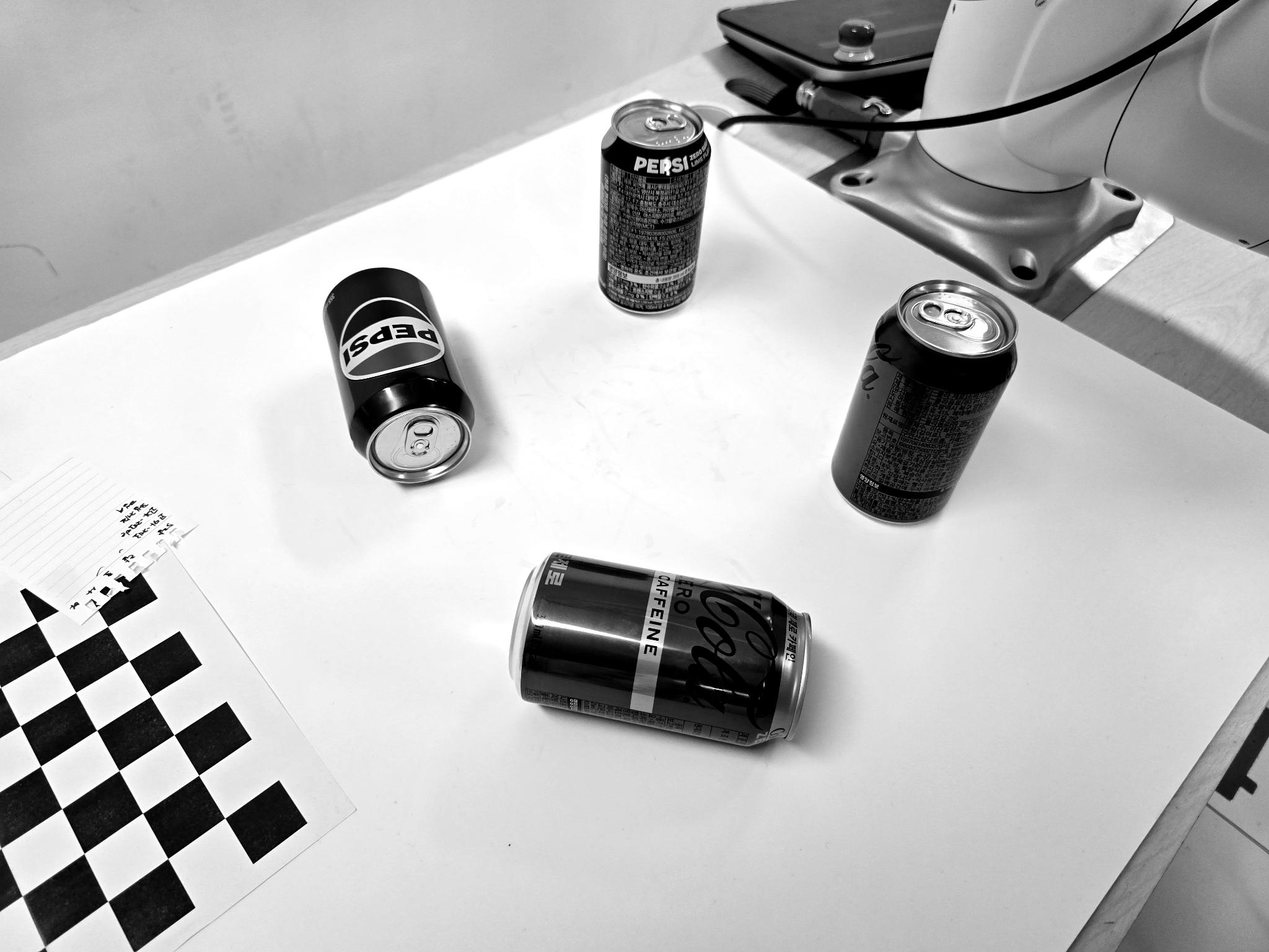can_coke_decaf: (512, 552, 811, 746)
can_coke_zero: (832, 281, 1017, 523)
can_pepsi: (323, 267, 474, 483)
can_pepsi_zero: (600, 99, 711, 312)
